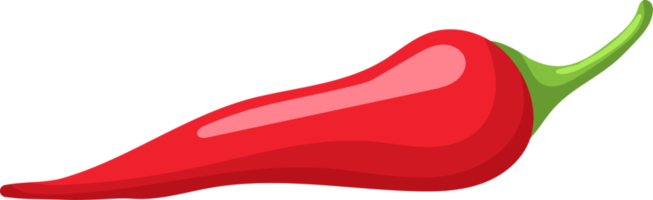Cabai: (17, 9, 653, 200)
